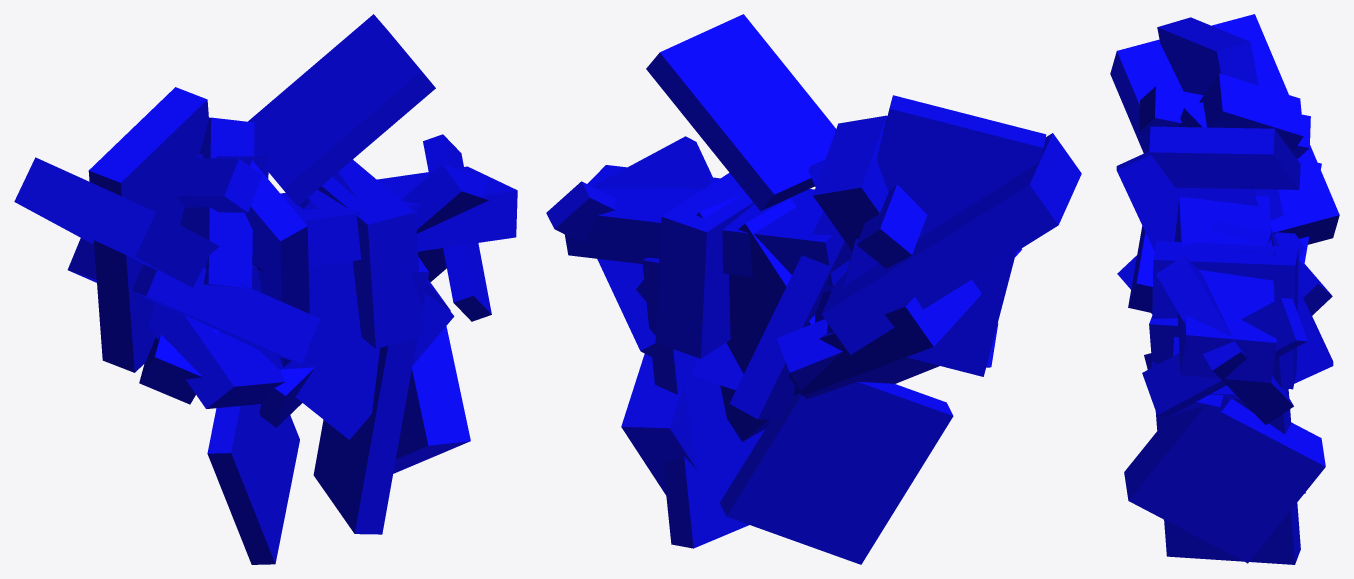
The model's file is test.layouter.randomBoxes.gltf.
The picture shows the model from 3 angles, left to right: view 1: azimuth 30°, elevation 25°; view 2: azimuth 150°, elevation 25°; view 3: azimuth 270°, elevation 25°; orthographic projection. The views are drawn at different scales.
Parts seen in each view (by area): view 1: shape_2, shape_16, shape_15, shape_0, shape_7, shape_12, shape_5, shape_6, shape_18, shape_14, shape_4, shape_17 (+6 smaller); view 2: shape_5, shape_2, shape_16, shape_0, shape_12, shape_18, shape_7, shape_17, shape_15, shape_1, shape_6, shape_9 (+5 smaller); view 3: shape_4, shape_18, shape_0, shape_2, shape_17, shape_7, shape_16, shape_9, shape_12, shape_8, shape_1, shape_11 (+6 smaller).
Boxes of the visible parts, left/top/right/bottom form: shape_2: left=248, top=14, right=435, bottom=206; shape_16: left=88, top=87, right=208, bottom=372; shape_15: left=259, top=196, right=454, bottom=439; shape_0: left=14, top=157, right=261, bottom=292; shape_7: left=317, top=159, right=423, bottom=348; shape_12: left=313, top=257, right=428, bottom=534; shape_5: left=207, top=404, right=299, bottom=564; shape_6: left=67, top=238, right=320, bottom=363; shape_18: left=252, top=166, right=517, bottom=271; shape_14: left=148, top=303, right=285, bottom=408; shape_4: left=393, top=326, right=470, bottom=473; shape_17: left=245, top=160, right=310, bottom=367; shape_5: left=720, top=381, right=953, bottom=564; shape_2: left=646, top=14, right=835, bottom=210; shape_16: left=843, top=95, right=1046, bottom=376; shape_0: left=821, top=133, right=1081, bottom=354; shape_12: left=642, top=257, right=764, bottom=548; shape_18: left=564, top=165, right=849, bottom=286; shape_7: left=655, top=173, right=754, bottom=358; shape_17: left=729, top=211, right=851, bottom=419; shape_15: left=720, top=198, right=814, bottom=441; shape_1: left=813, top=115, right=888, bottom=251; shape_6: left=788, top=248, right=1022, bottom=395; shape_9: left=592, top=136, right=712, bottom=356; shape_4: left=1124, top=399, right=1325, bottom=563; shape_18: left=1174, top=195, right=1276, bottom=382; shape_0: left=1110, top=14, right=1339, bottom=244; shape_2: left=1149, top=126, right=1300, bottom=189; shape_17: left=1116, top=151, right=1333, bottom=383; shape_7: left=1151, top=241, right=1298, bottom=389; shape_16: left=1157, top=17, right=1283, bottom=220; shape_9: left=1156, top=255, right=1293, bottom=424; shape_12: left=1149, top=316, right=1300, bottom=564; shape_8: left=1142, top=298, right=1307, bottom=416; shape_1: left=1199, top=73, right=1303, bottom=152; shape_11: left=1139, top=86, right=1310, bottom=159.
Bounding box in the file's own units: 132 × 127 × 56.43.
